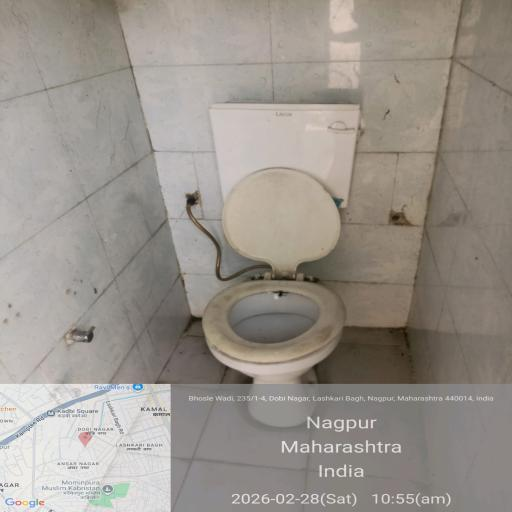partial_dirty_floor: (6, 15, 178, 512), (207, 7, 512, 132)
partial_dirty_western: (175, 126, 407, 466)
